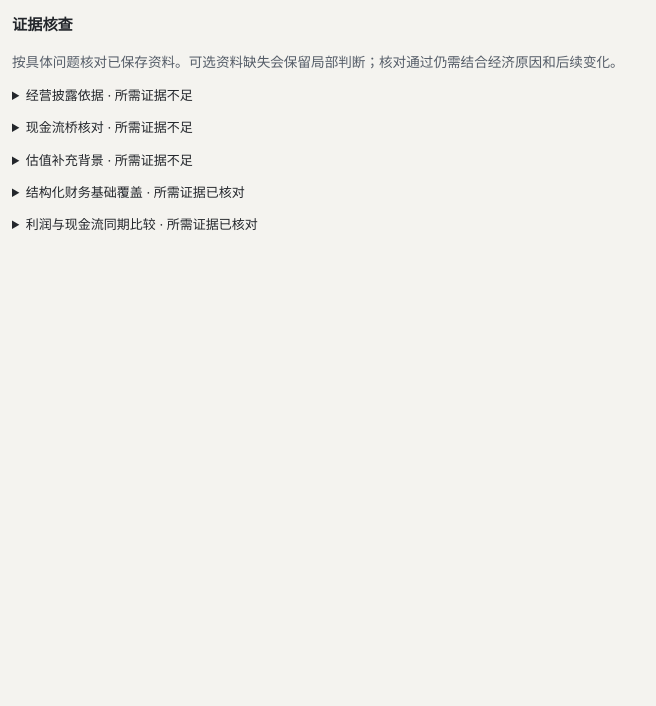
Test case: shows passed structured comparisons beside the unavailable complete cash bridge
This screenshot has width=656, height=706.
Check: the heading "现金流桥核对 · 所需证据不足" is shown, box [26,120,193,136]
What coordinates should you click on to do the following:
click the heading "利润与现金流同期比较 · 所需证据已核对"
I would click on:
 (142, 224)
Its box is [26,216,258,232].
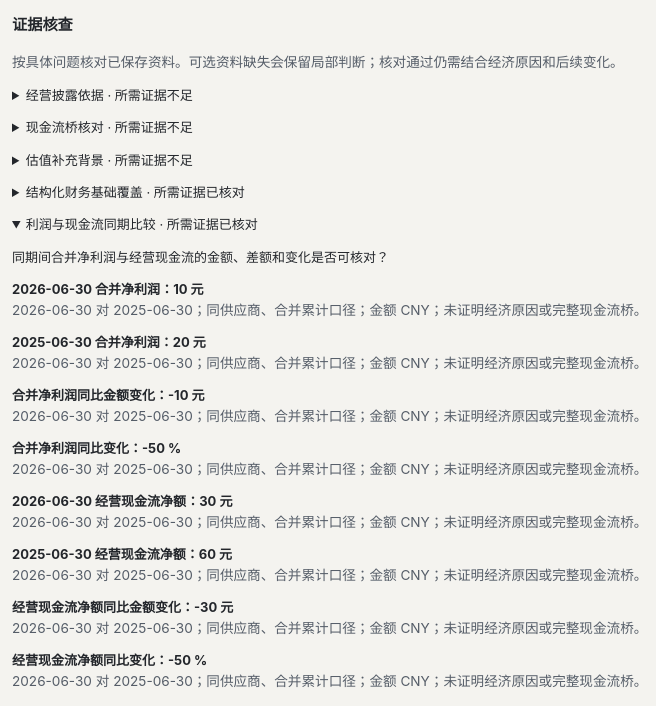
Check: the text "2026-06-30 合并净利润：10 元" is shown, box [12,281,204,297]
